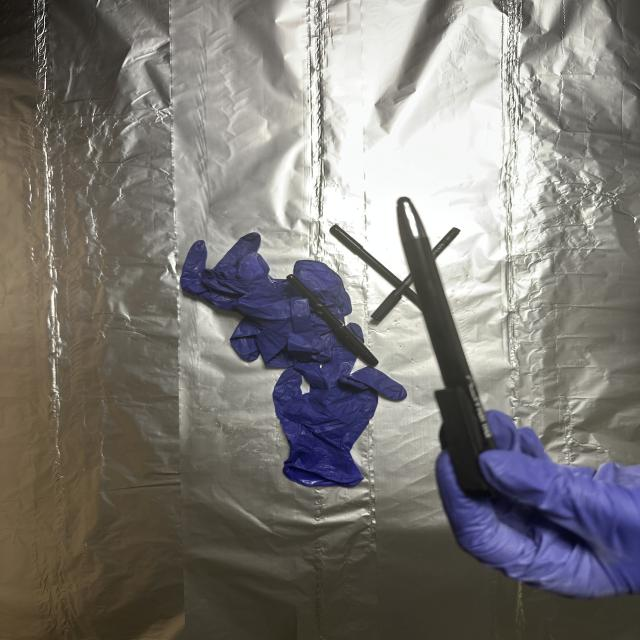gloves_contaminated: (436, 411, 640, 598)
